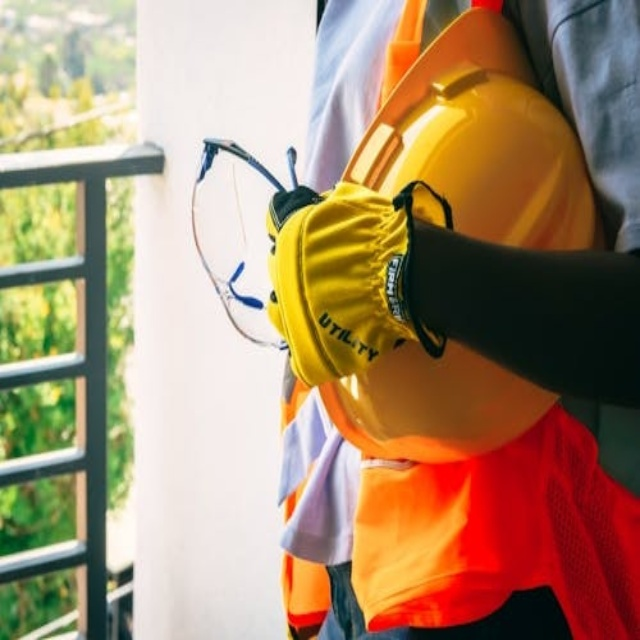Guantes: (261, 155, 458, 399)
